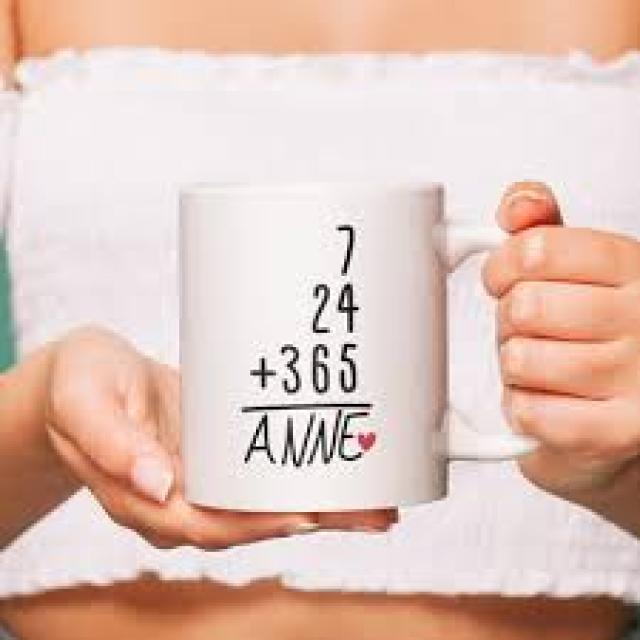taza: (178, 178, 570, 514)
